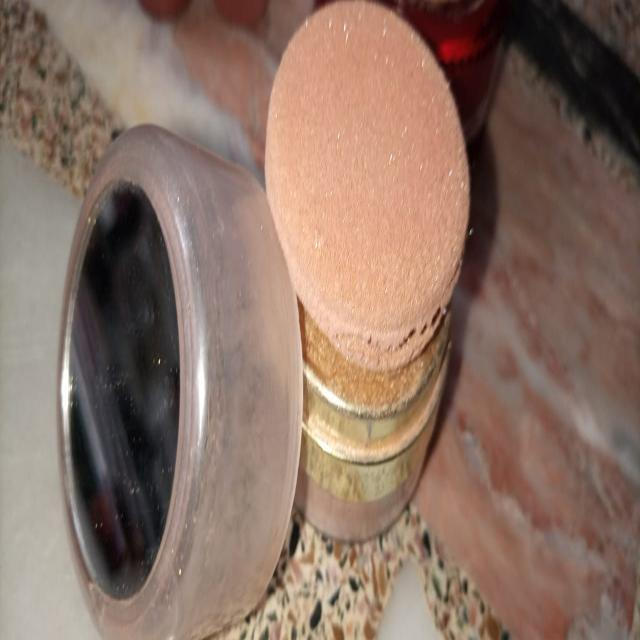blush: (258, 6, 478, 361)
